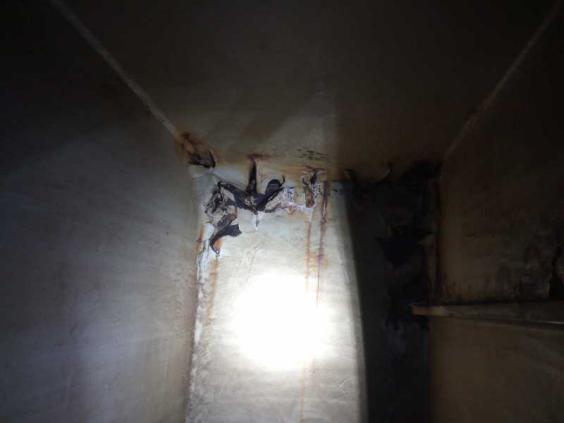corrosion: (188, 158, 289, 251), (296, 162, 332, 285), (167, 119, 221, 175)
